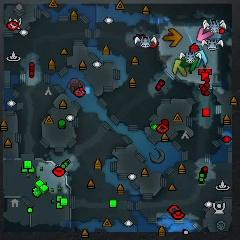x1: (197, 27, 214, 42)
x2: (173, 59, 188, 77)
x3: (195, 49, 208, 66)
x4: (181, 57, 199, 71)
x5: (163, 28, 183, 47)
